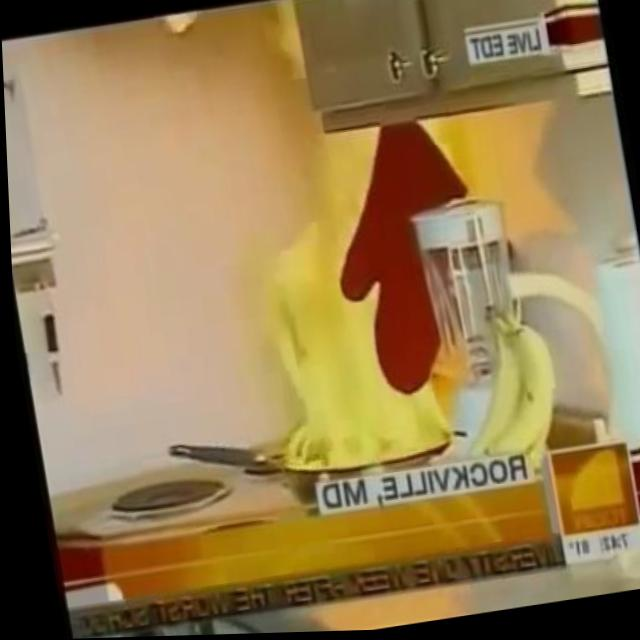fire: (233, 119, 464, 478)
